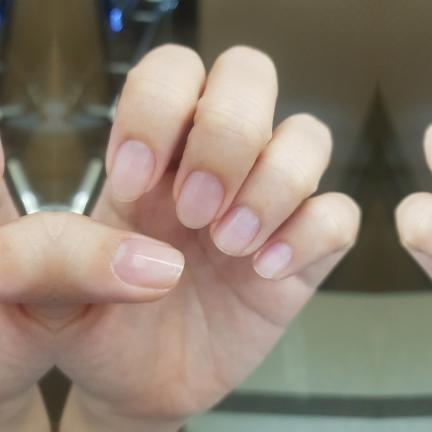Nail: (113, 238, 184, 288), (174, 171, 225, 229), (106, 142, 153, 203), (213, 205, 261, 256), (253, 241, 292, 279), (0, 177, 2, 192)
